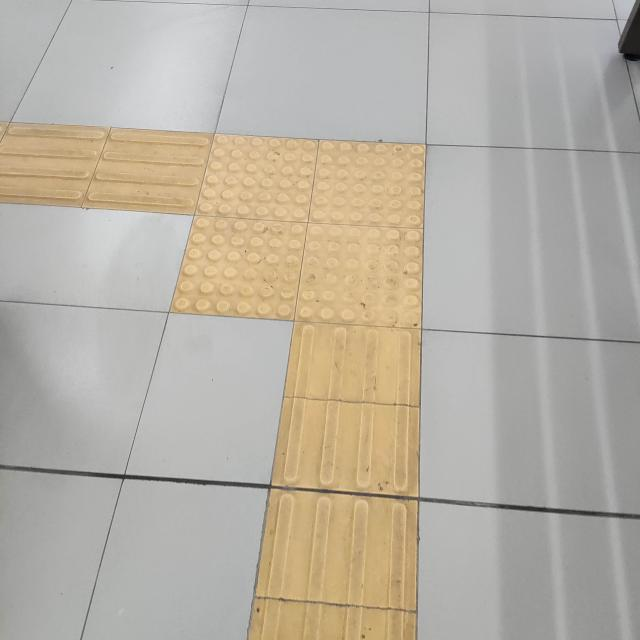kiri: (62, 83, 492, 408)
